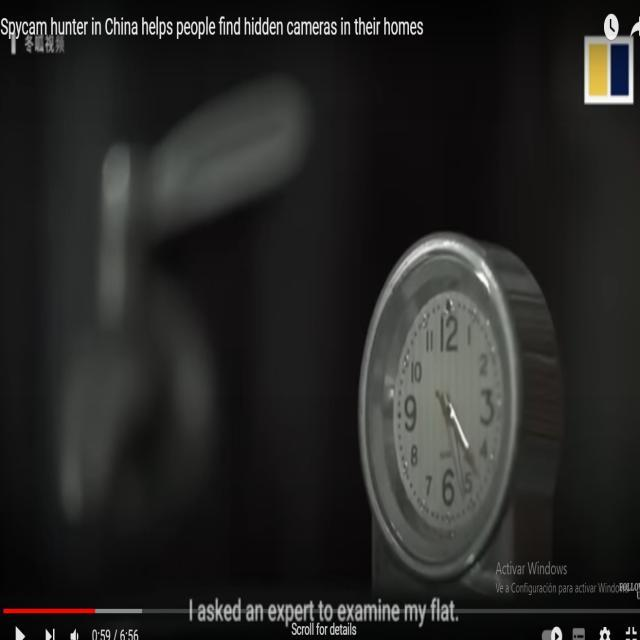hidden camera: (444, 297, 455, 314)
